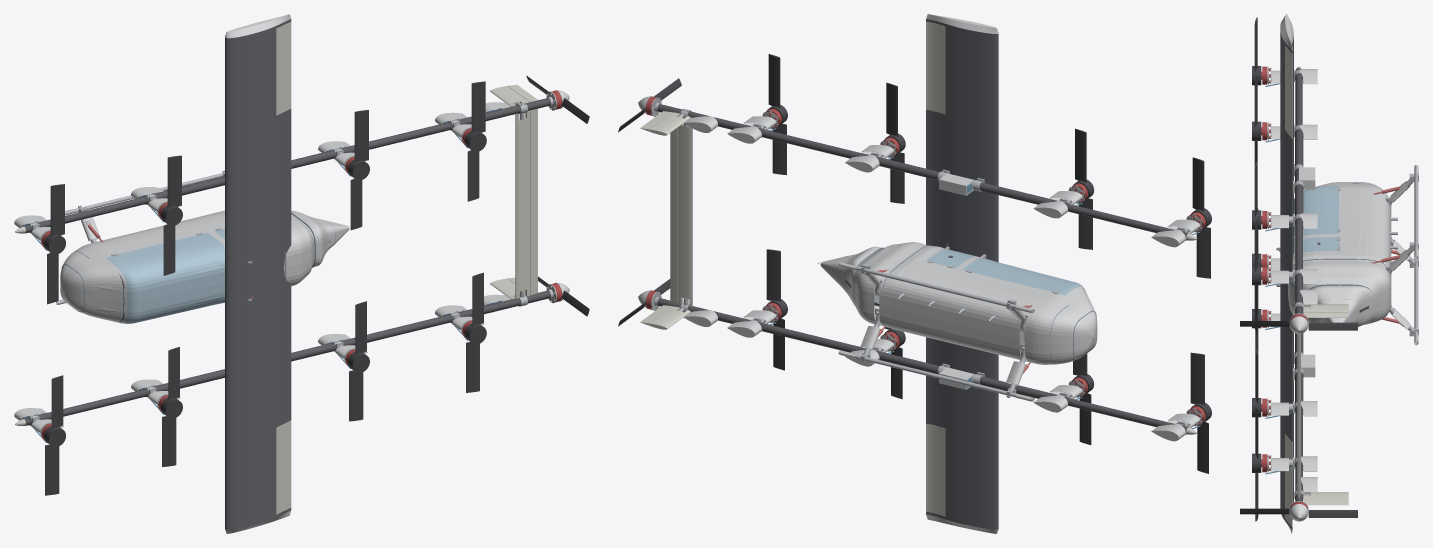
File: E8-200_assembly.glb
3 views of the same model, side by side, from view 1: azimuth 30°, elevation 25°; view 2: azimuth 150°, elevation 25°; view 3: azimuth 270°, elevation 25° (orthographic). The views are drawn at different scales.
Parts seen in each view (by area): view 1: W-SKIN#0, CAN-F#0, SH-NOSE#0, HT#0, SH-CAB#0, SH-AFT#0, ROT-CCW#3, ROT-CCW#1, ROT-CCW#2, ROT-CW#0, ROT-CW#2, ROT-CW#1 (+12 smaller); view 2: W-SKIN#0, SH-CAB#0, SH-AFT#0, SH-NOSE#0, HT#0, W-AIL#0, W-AIL#1, CAN-F#0, ROT-CCW#0, ROT-CW#0, ROT-CCW#3, ROT-CW#3 (+16 smaller); view 3: SH-AFT#0, W-SKIN#0, SH-CAB#0, CAN-F#0, PROP-PCW#1, PROP-PCW#0, W-AIL#0, BM-WRAP3#0, BM-WRAP2#0, ROT-CW#3, W-AIL#1, ROT-CCW#3 (+36 smaller).
Part boxes in pixels (x1,y1,x2,y2): W-SKIN#0: [225, 19, 291, 529]; CAN-F#0: [106, 232, 224, 323]; SH-NOSE#0: [60, 245, 127, 323]; HT#0: [515, 110, 530, 298]; SH-CAB#0: [84, 210, 224, 257]; SH-AFT#0: [284, 211, 334, 286]; ROT-CCW#3: [464, 81, 486, 201]; ROT-CCW#1: [161, 155, 182, 275]; ROT-CCW#2: [348, 110, 369, 230]; ROT-CW#0: [44, 375, 65, 495]; ROT-CW#2: [348, 301, 369, 421]; ROT-CW#1: [161, 347, 182, 466]; W-SKIN#0: [926, 19, 998, 529]; SH-CAB#0: [892, 259, 1063, 364]; SH-AFT#0: [835, 242, 940, 329]; SH-NOSE#0: [1038, 286, 1097, 364]; HT#0: [677, 124, 692, 306]; W-AIL#0: [926, 22, 945, 113]; W-AIL#1: [926, 424, 945, 515]; CAN-F#0: [962, 258, 1083, 295]; ROT-CCW#0: [1191, 157, 1211, 278]; ROT-CW#0: [1190, 352, 1211, 473]; ROT-CCW#3: [767, 54, 787, 175]; ROT-CW#3: [766, 249, 787, 370]; SH-AFT#0: [1289, 254, 1391, 326]; W-SKIN#0: [1280, 31, 1293, 529]; SH-CAB#0: [1339, 186, 1391, 265]; CAN-F#0: [1294, 186, 1338, 236]; PROP-PCW#1: [1240, 321, 1357, 330]; PROP-PCW#0: [1240, 508, 1357, 517]; W-AIL#0: [1285, 45, 1292, 138]; BM-WRAP3#0: [1295, 219, 1302, 313]; BM-WRAP2#0: [1295, 125, 1303, 223]; ROT-CW#3: [1252, 405, 1261, 521]; W-AIL#1: [1285, 434, 1292, 526]; ROT-CCW#3: [1252, 217, 1261, 333].
Bounding box in the file's own units: 9250 × 8000 × 2652.
